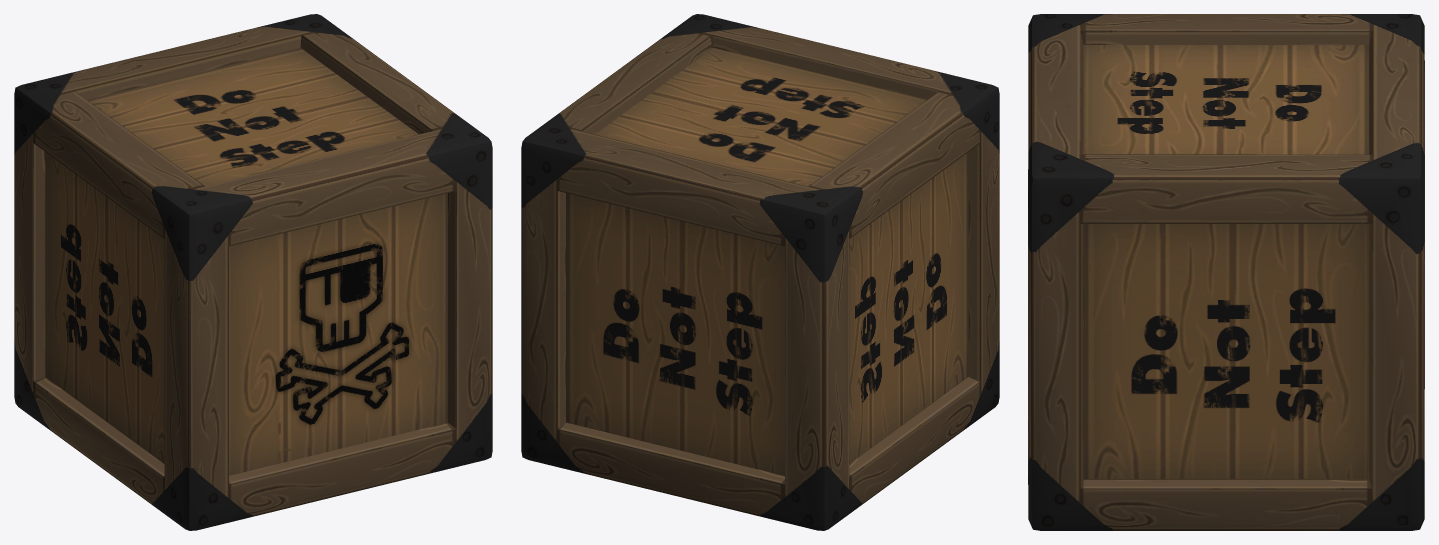
File: piaret box.glb
3 views of the same model, side by side, from view 1: azimuth 30°, elevation 25°; view 2: azimuth 150°, elevation 25°; view 3: azimuth 270°, elevation 25° (orthographic). The views are drawn at different scales.
Visible parts, largest first — view 1: Quest_Pirate_BoxSquare; view 2: Quest_Pirate_BoxSquare; view 3: Quest_Pirate_BoxSquare.
Part boxes in pixels (x1,y1,x2,y2): Quest_Pirate_BoxSquare: (14, 14, 492, 530); Quest_Pirate_BoxSquare: (521, 14, 999, 530); Quest_Pirate_BoxSquare: (1028, 14, 1424, 530).
Bounding box in the file's own units: 1 × 1 × 1.
Materials: 1 (1 with a texture image).
